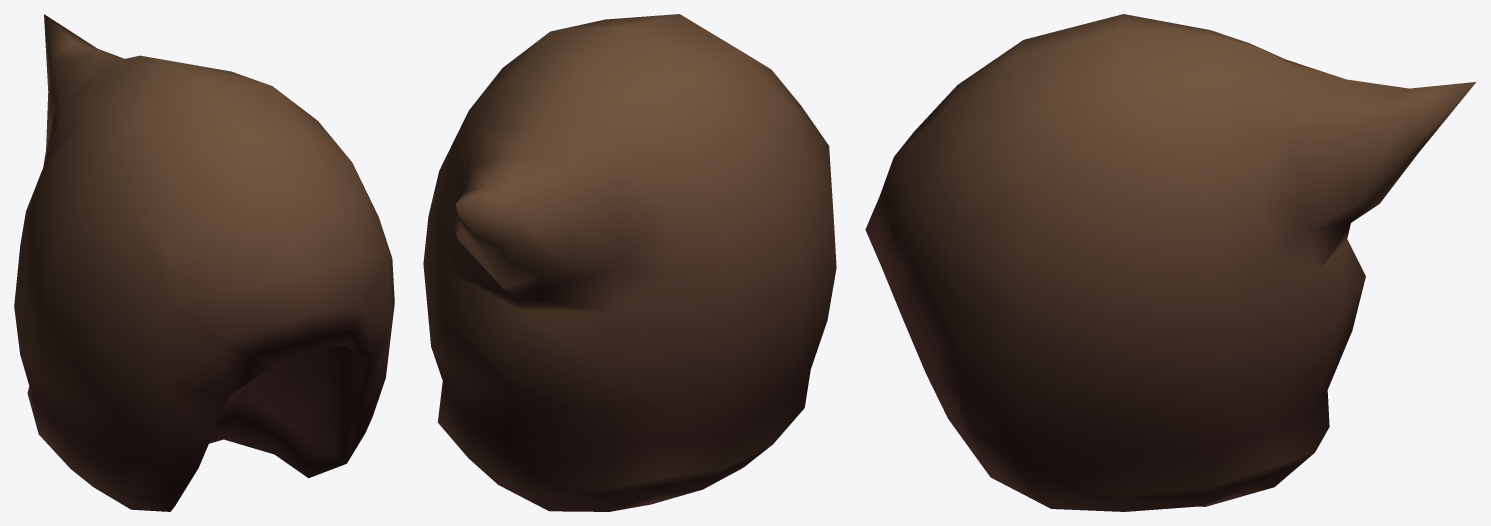
Rendered from Equip_Helm_14_2.FBX.
3 renders of one model, left to right at view 1: azimuth 30°, elevation 25°; view 2: azimuth 150°, elevation 25°; view 3: azimuth 270°, elevation 25°, orthographic. The views are drawn at different scales.
Parts seen in each view (by area): view 1: Equip_Helm_14_2; view 2: Equip_Helm_14_2; view 3: Equip_Helm_14_2.
Boxes of the visible parts, x1,y1,x2,y2 form: Equip_Helm_14_2: [14, 14, 394, 511]; Equip_Helm_14_2: [423, 14, 836, 511]; Equip_Helm_14_2: [865, 14, 1475, 511].
Bounding box in the file's own units: 43.24 × 52.39 × 63.29.
